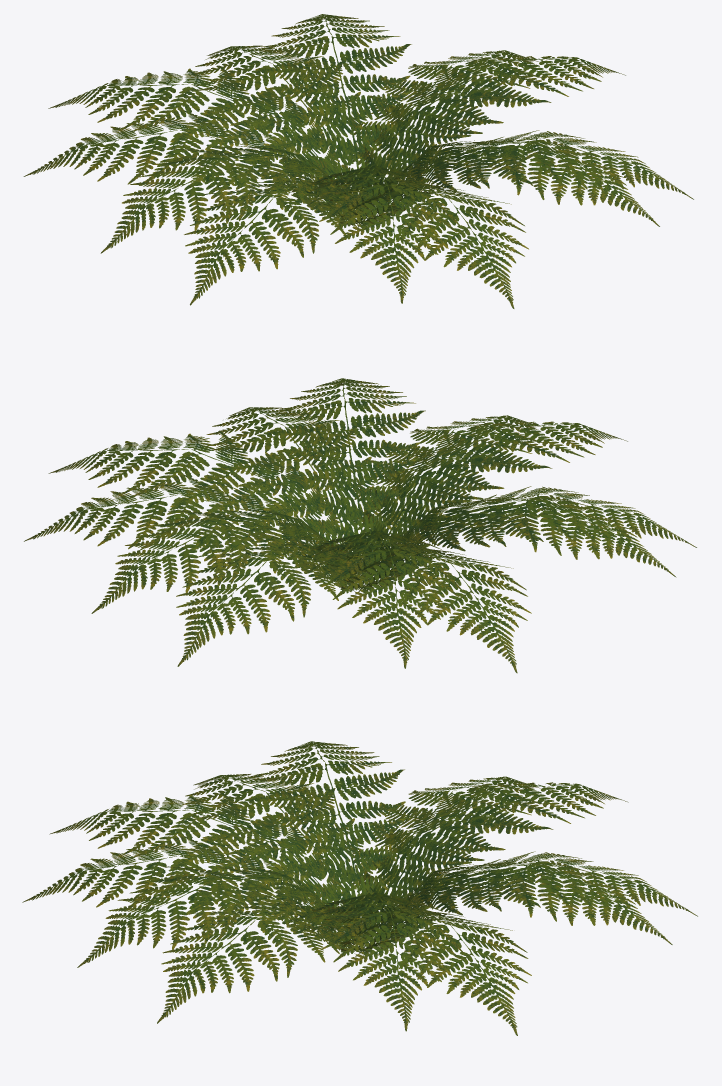
Rendered from SM_Lounge_Foliage_07.fbx.
The picture shows the model from 3 angles, top to bottom: view 1: azimuth 30°, elevation 25°; view 2: azimuth 150°, elevation 25°; view 3: azimuth 270°, elevation 25°; orthographic projection.
Visible parts, largest first — view 1: SM_Lounge_Foliage_07; view 2: SM_Lounge_Foliage_07; view 3: SM_Lounge_Foliage_07.
Part boxes in pixels (bbox=[...]): SM_Lounge_Foliage_07: bbox=[23, 14, 693, 308]; SM_Lounge_Foliage_07: bbox=[24, 378, 696, 673]; SM_Lounge_Foliage_07: bbox=[22, 741, 697, 1035].
Size of the model in its own units: 135 by 26.39 by 134.
1 material, 1 textured.
